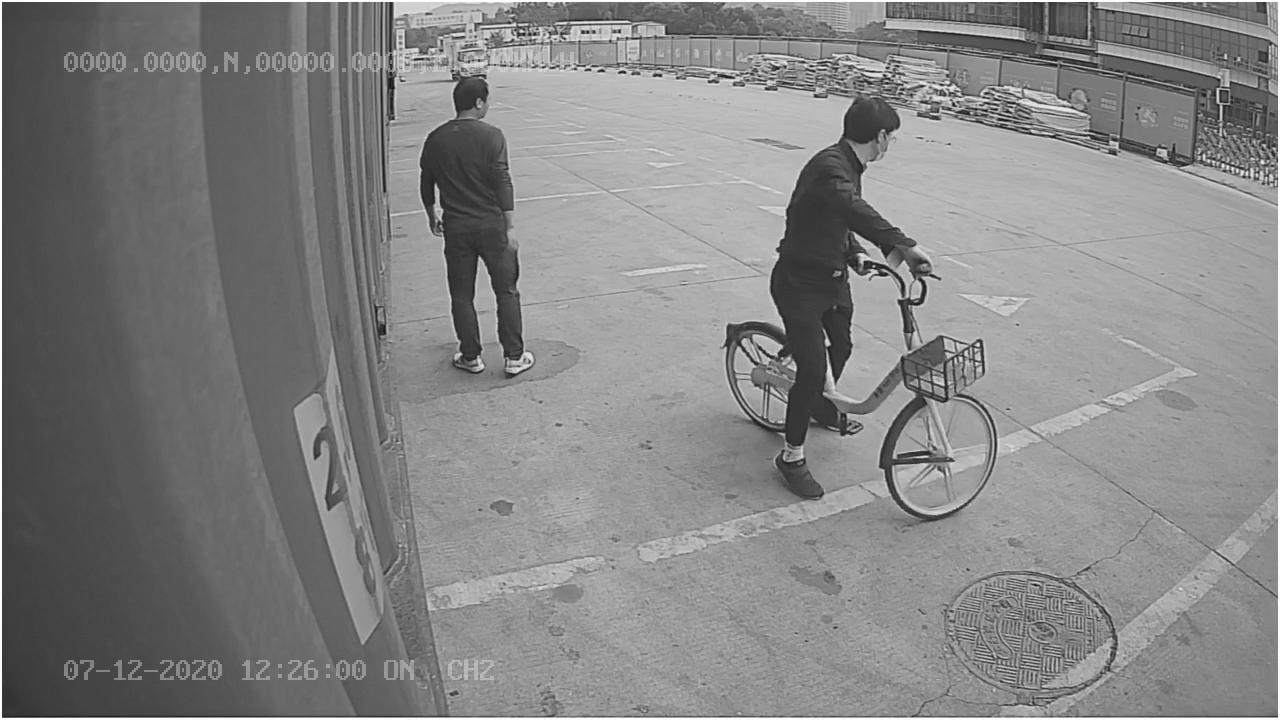person: (414, 73, 540, 386)
